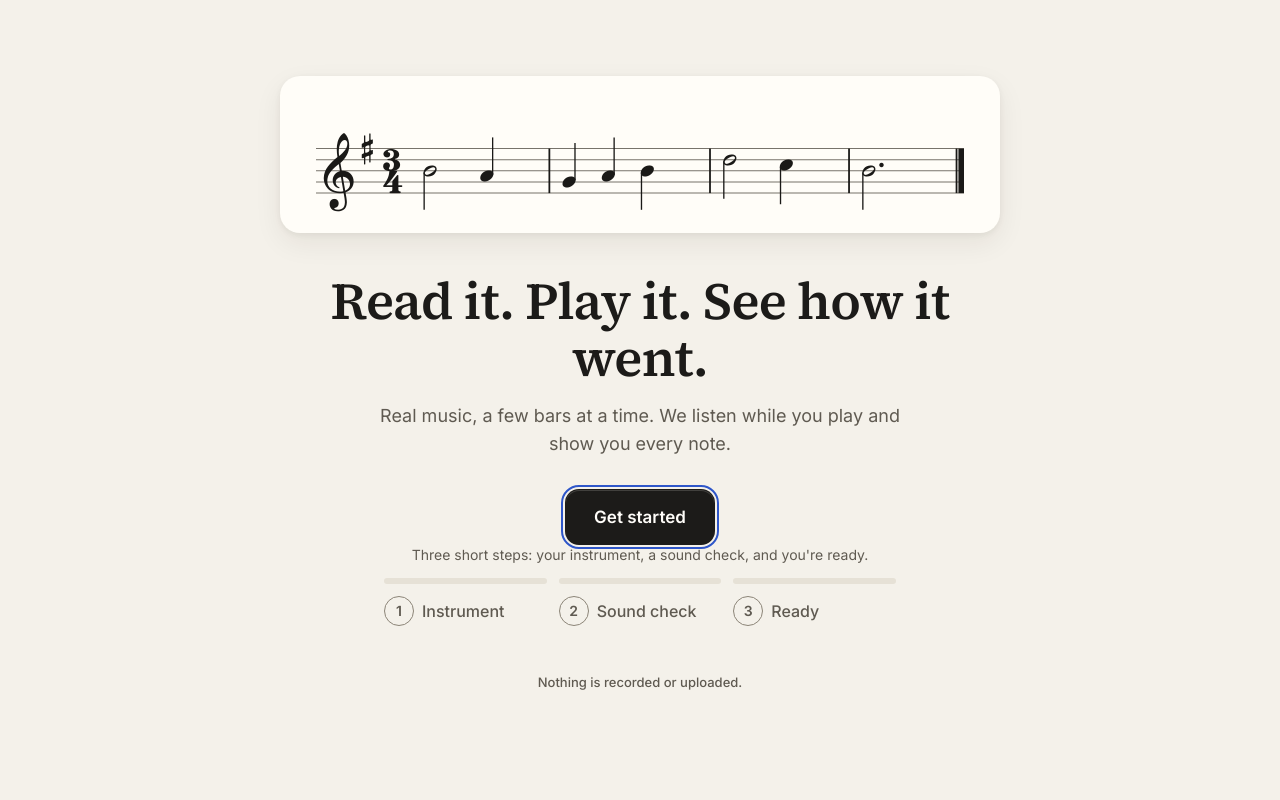
OnboardingScreen › "Not now" opens Ready: microphone off, Hear you and Timing need it, tries are practice
Later steps or results of the test are not shown.
Click the button "Get started" at (640, 518), box [565,490,715,546]
(page scrolled)
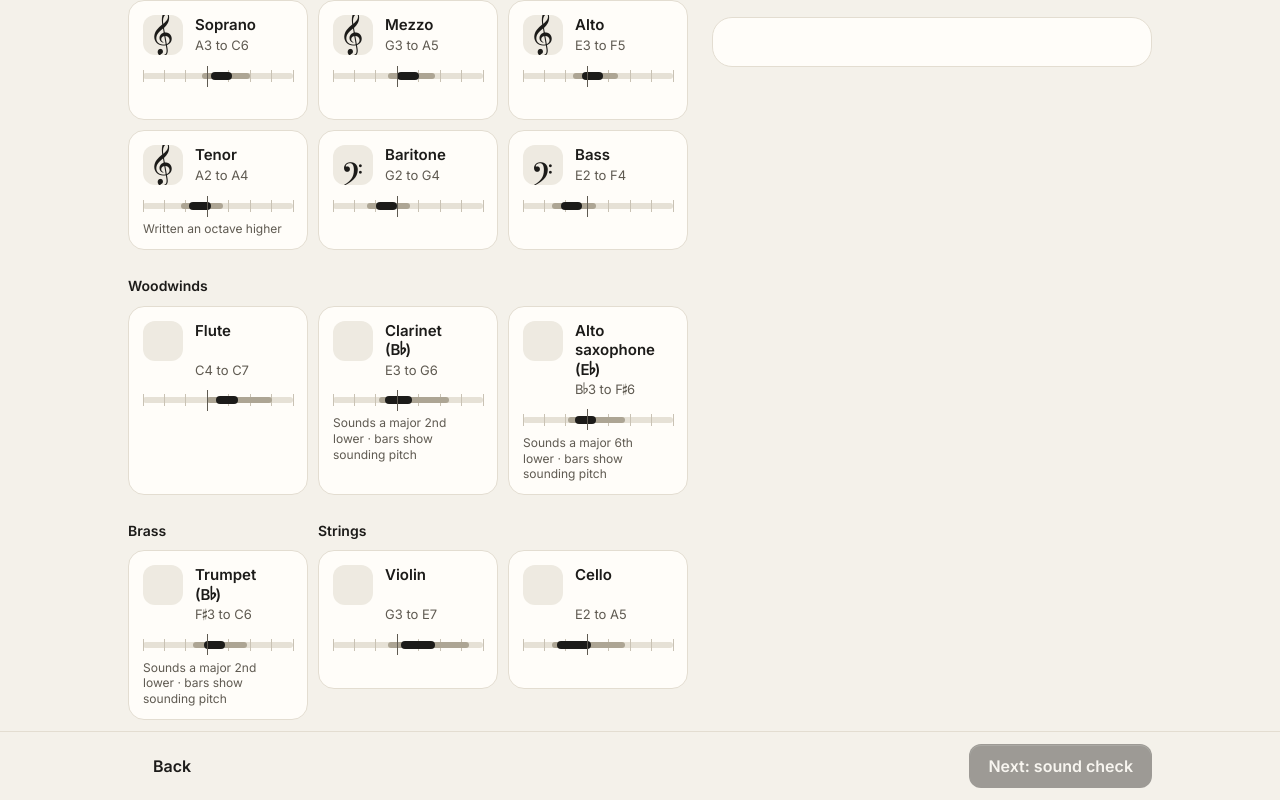
Click the radio button labelled "Flute C4 to C7" at (218, 400), box [128,306,308,495]
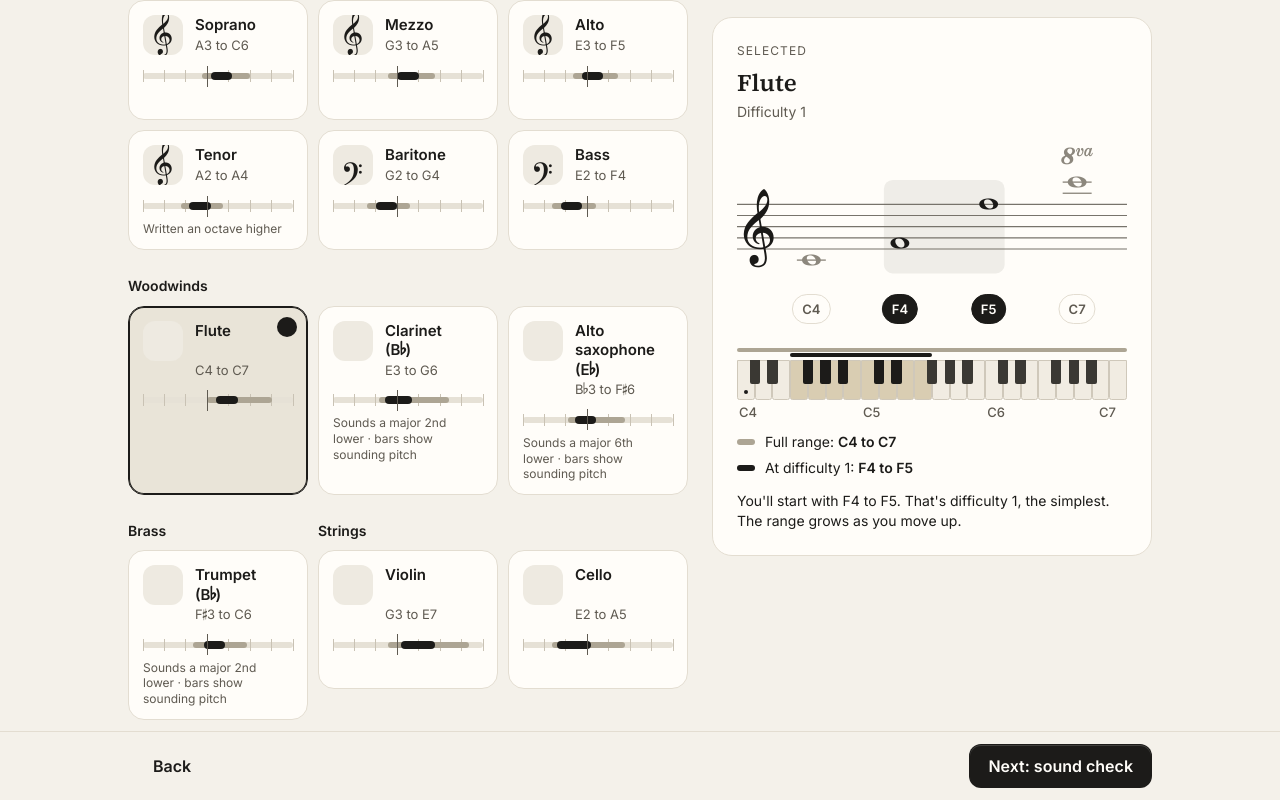
Click the button "Next: sound check" at (1061, 766), box [969,744,1152,788]
(page scrolled)
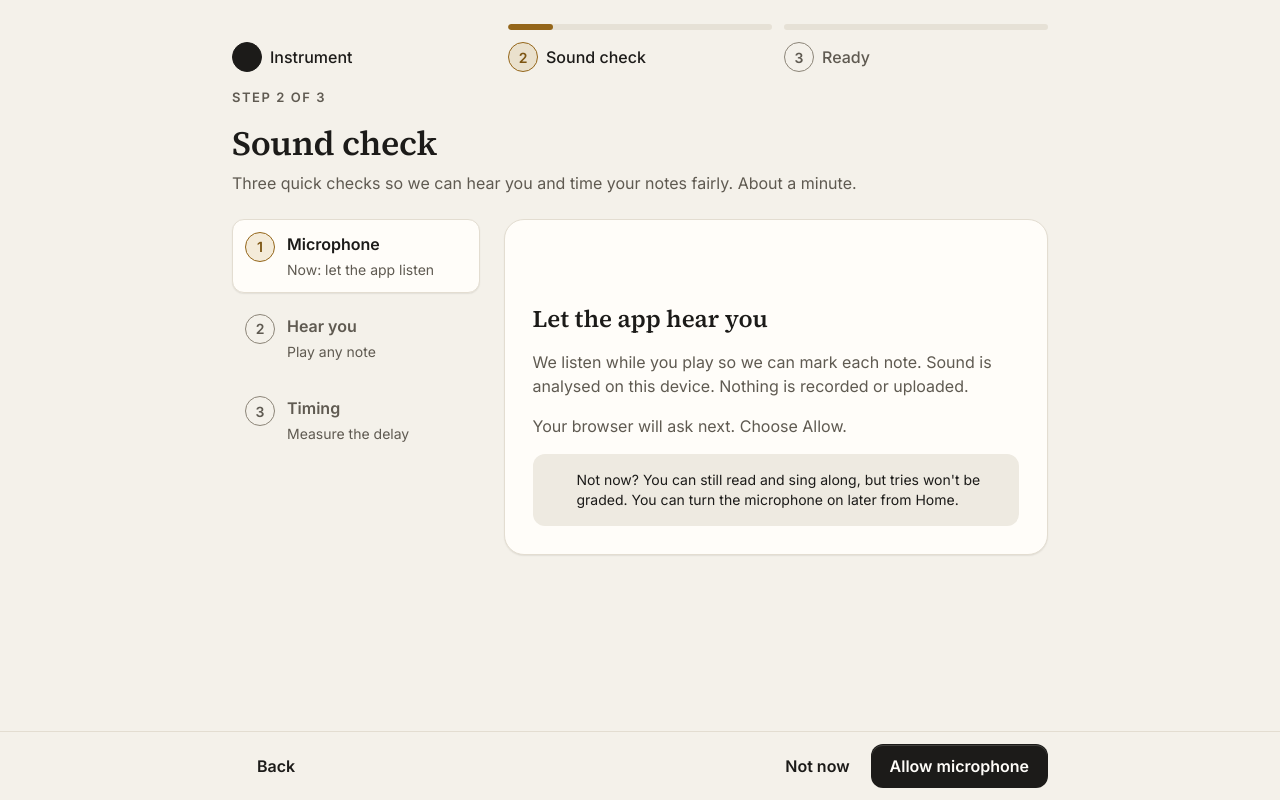
Expected: the text "Not now? You can still read and sing along, but tries won't be graded." is shown, [576,471,980,508]
Click the button "Not now" at (817, 766), box [776,744,859,788]
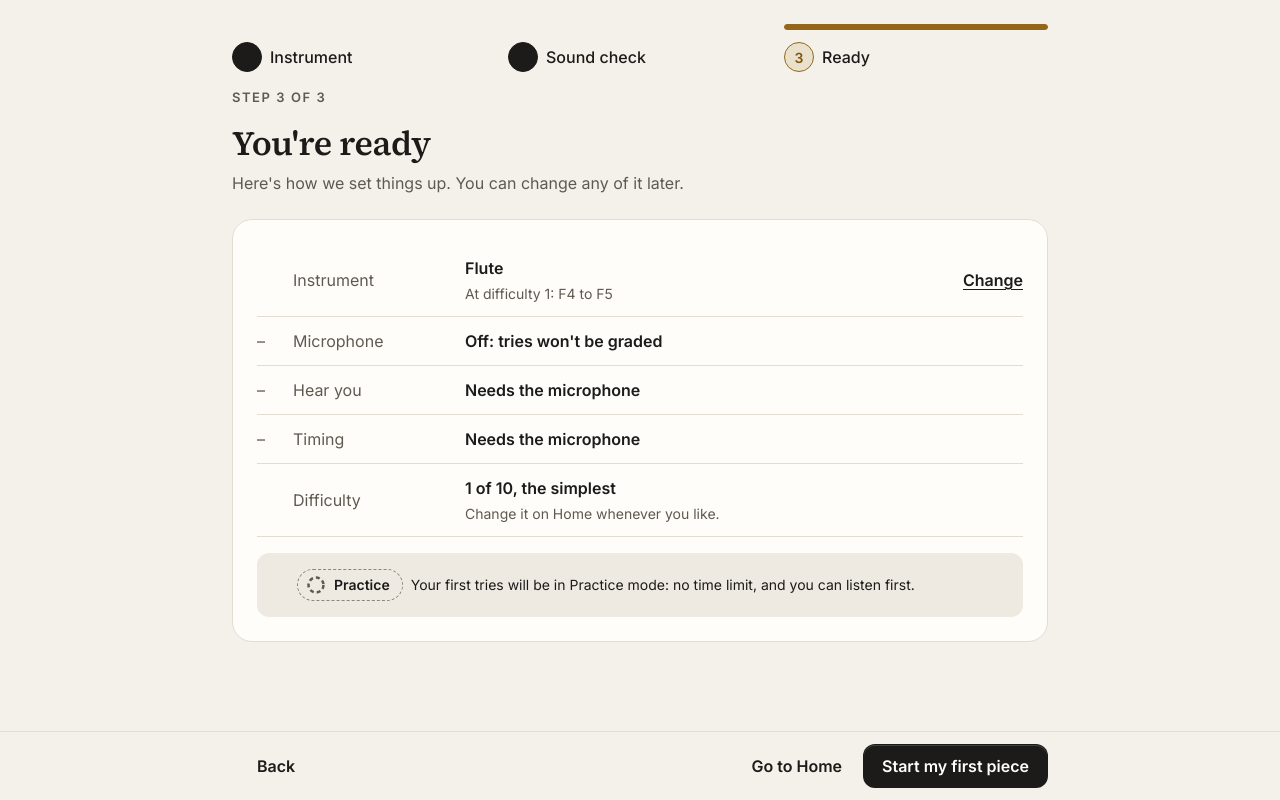
Expected: the list item "– Microphone Off: tries won't be graded" is shown, [257,317,1023,366]
Expected: the list item "– Hear you Needs the microphone" is shown, [257,366,1023,415]
Expected: the list item "– Timing Needs the microphone" is shown, [257,415,1023,464]
